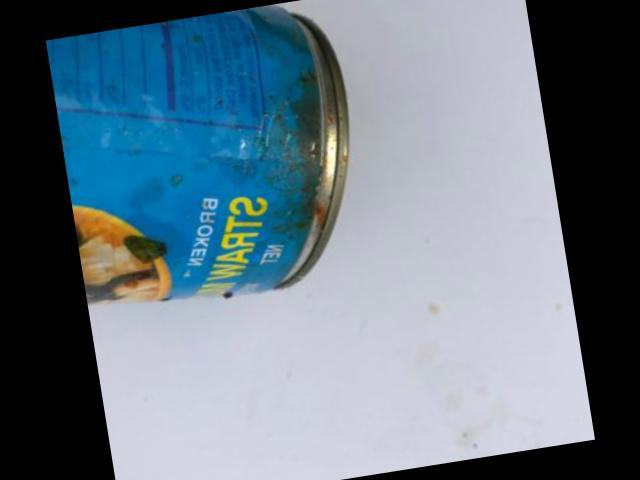metal: (45, 6, 349, 304)
